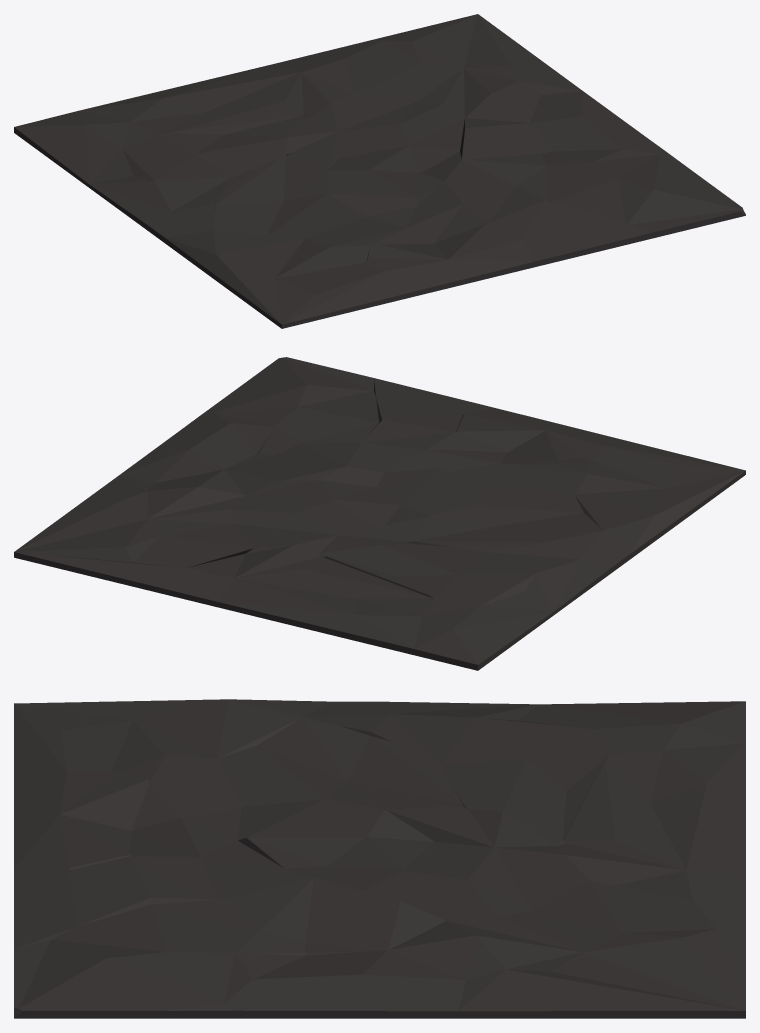
Rendered from Stone_Module_2M.glb.
The picture shows the model from 3 angles, top to bottom: view 1: azimuth 30°, elevation 25°; view 2: azimuth 150°, elevation 25°; view 3: azimuth 270°, elevation 25°; orthographic projection. The views are drawn at different scales.
Parts seen in each view (by area): view 1: Stone_Module_2M; view 2: Stone_Module_2M; view 3: Stone_Module_2M.
Boxes of the visible parts, x1,y1,x2,y2 form: Stone_Module_2M: (14,14,745,328); Stone_Module_2M: (14,357,745,670); Stone_Module_2M: (14,699,745,1018).
Size of what is drawn, in the model's own units: 2 by 0.0792 by 2.
1 material, 1 textured.
